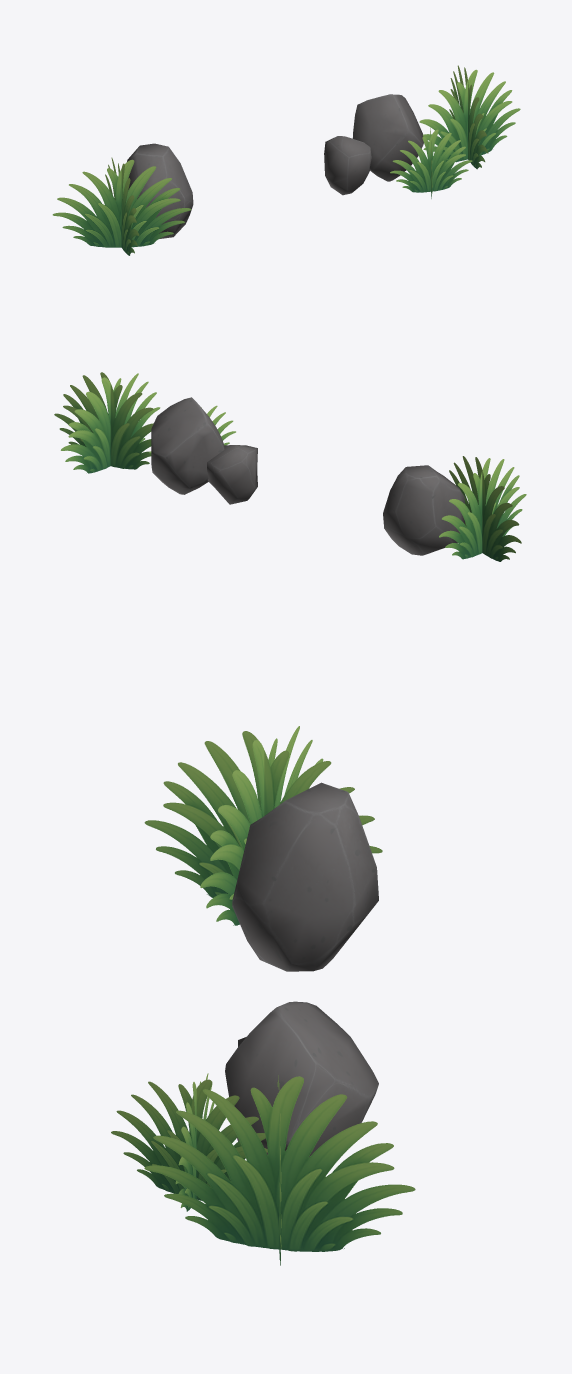
Rendered from rock_front_door.glb.
3 views of the same model, one above another, from view 1: azimuth 30°, elevation 25°; view 2: azimuth 150°, elevation 25°; view 3: azimuth 270°, elevation 25° (orthographic). The views are drawn at different scales.
Parts seen in each view (by area): view 1: Empty.231, Rock01, Empty.228, Rock03, Empty.002, Rock02, Empty.227, Empty.232; view 2: Rock03, Rock01, Empty.228, Empty.227, Empty.232, Empty.231, Rock02; view 3: Empty.227, Rock03, Rock01, Empty.232, Empty.001, Empty.231, Empty.002.
Part boxes in pixels (x1=…): Empty.231: x1=52, y1=159, x2=191, y2=247; Rock01: x1=352, y1=94, x2=423, y2=181; Empty.228: x1=419, y1=69, x2=520, y2=162; Rock03: x1=127, y1=143, x2=193, y2=238; Empty.002: x1=390, y1=129, x2=472, y2=192; Rock02: x1=324, y1=136, x2=371, y2=195; Empty.227: x1=449, y1=65, x2=488, y2=169; Empty.232: x1=105, y1=157, x2=139, y2=255; Rock03: x1=383, y1=465, x2=464, y2=555; Rock01: x1=151, y1=397, x2=224, y2=494; Empty.228: x1=54, y1=372, x2=153, y2=469; Empty.227: x1=60, y1=373, x2=160, y2=473; Empty.232: x1=439, y1=458, x2=526, y2=559; Empty.231: x1=449, y1=456, x2=521, y2=561; Rock02: x1=207, y1=445, x2=257, y2=504; Empty.227: x1=144, y1=1076, x2=415, y2=1251; Rock03: x1=232, y1=782, x2=378, y2=971; Rock01: x1=225, y1=1001, x2=378, y2=1156; Empty.232: x1=144, y1=731, x2=382, y2=897; Empty.001: x1=111, y1=1079, x2=267, y2=1200; Empty.231: x1=200, y1=726, x2=323, y2=925; Empty.002: x1=175, y1=1073, x2=214, y2=1211.
Size of the model in its own units: 7.96 by 1.56 by 2.98.
5 materials, 5 textured.
